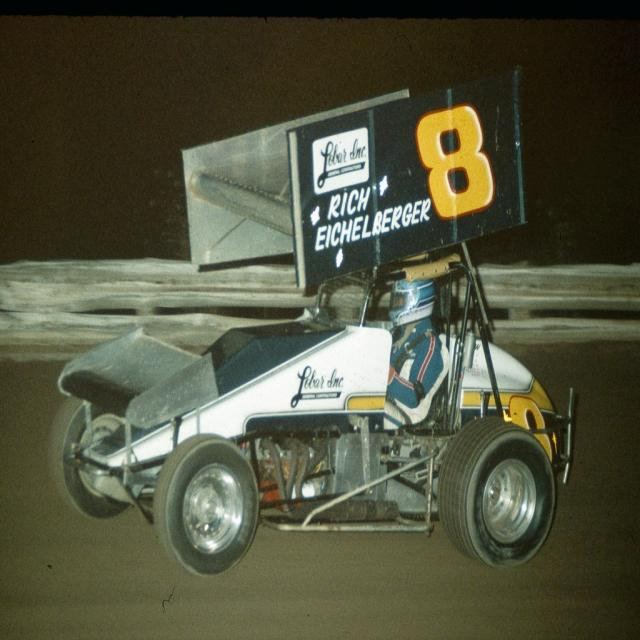car: (47, 65, 573, 578)
